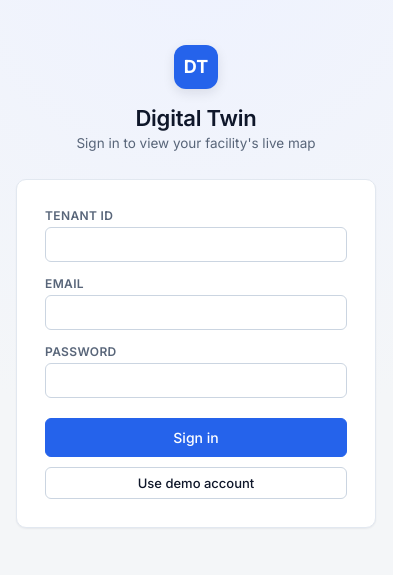
Test: LoginPage › says so when the API cannot be reached
The image size is (393, 575).
Type "t" into the field labelled "Tenant ID". click: (196, 244)
box: top-left (45, 226), bottom-right (347, 262)
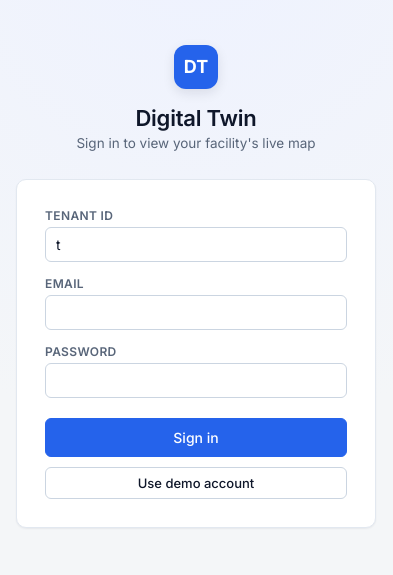
Type "a@b.com" into the field labelled "Email". click: (196, 312)
box: top-left (45, 294), bottom-right (347, 330)
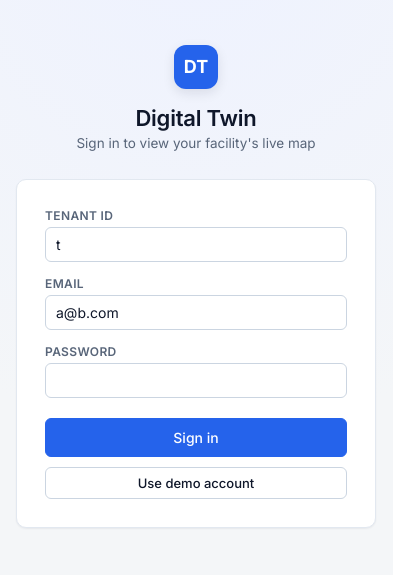
Type "x" into the password field labelled "Password". click: (196, 380)
box: top-left (45, 362), bottom-right (347, 398)
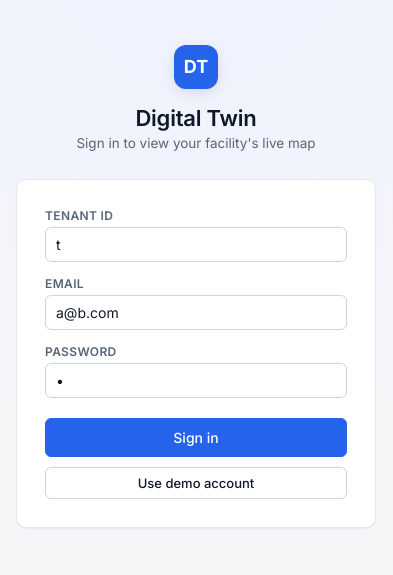
Click the button "Sign in". click: (196, 437)
box: top-left (45, 418), bottom-right (347, 456)
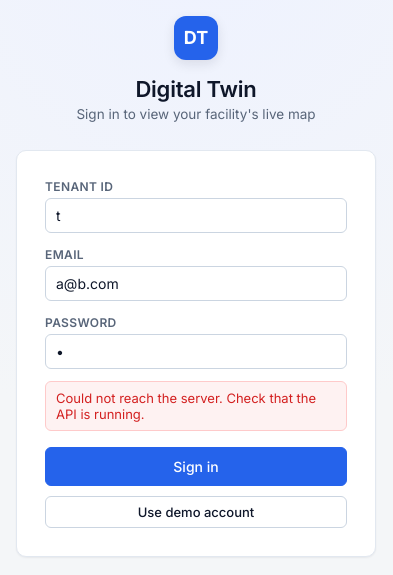
Expected: the message shows "Could not reach the server", top-left (56, 390), bottom-right (316, 422)
